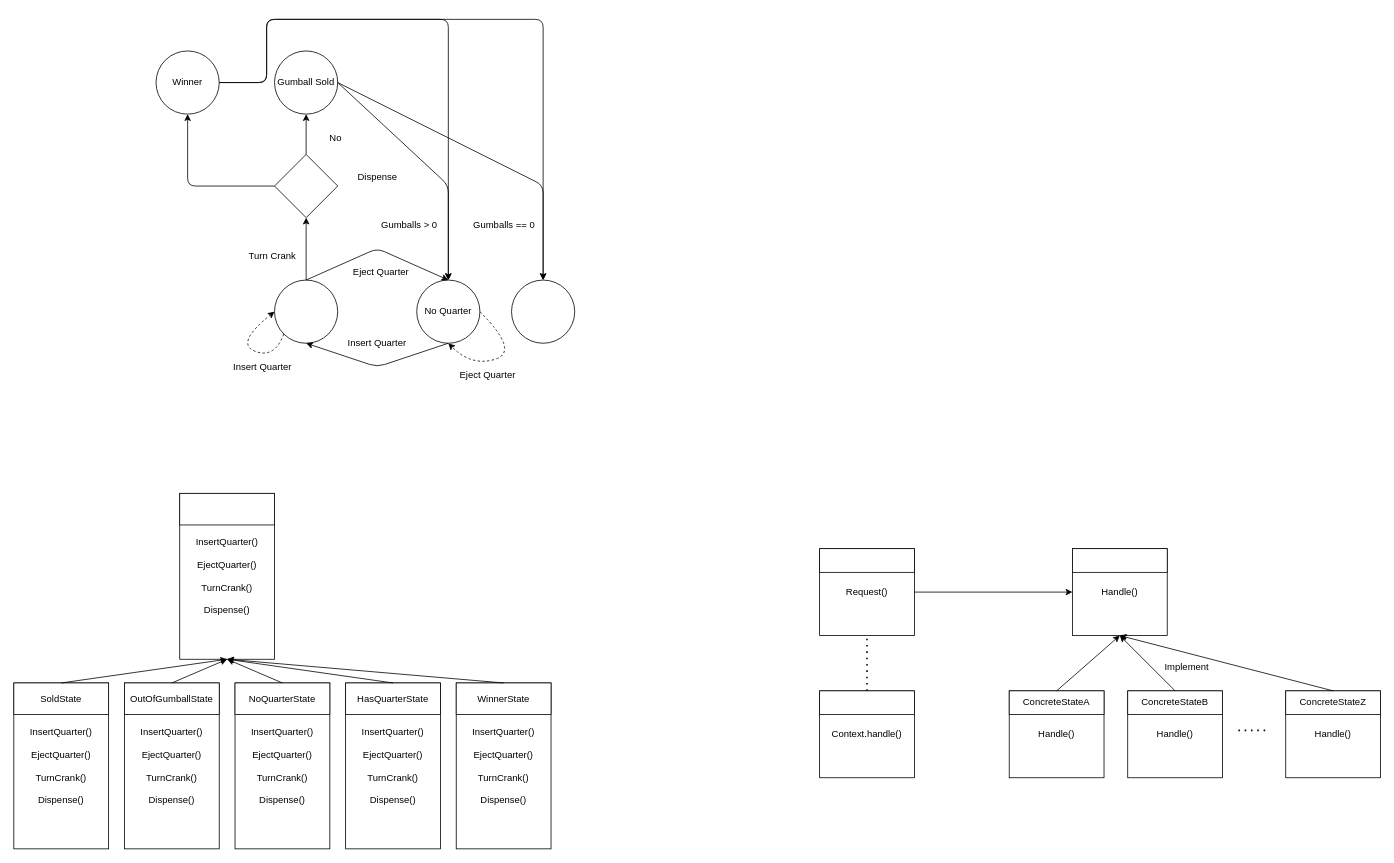
The diagram is 1394 pixels wide and 863 high, and some of its shapes have lost their labels. The centre of each missing label's shape, as x and y in pixels:
<<Interface>> IState: the point at 1119,560
<<interface>> State: the point at 227,509
Client: the point at 866,702
Context: the point at 866,560
Has Quarter: the point at 306,311
Is winner?: the point at 306,186
Out of Gumballs: the point at 543,311
